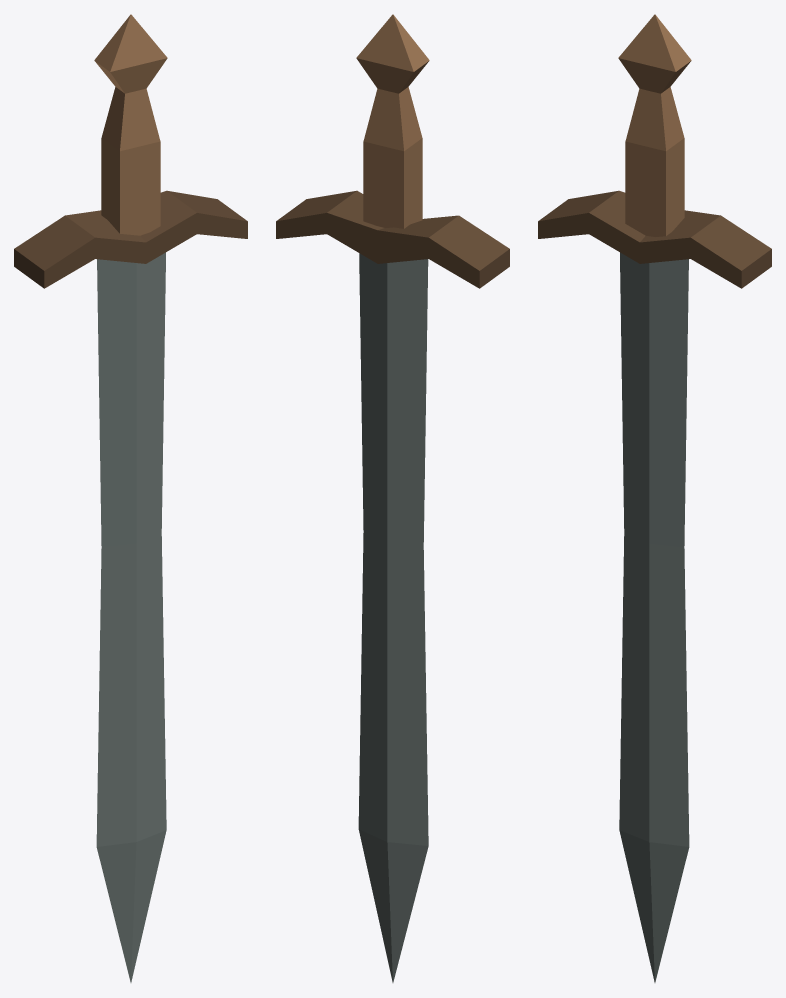
The model's file is Sword_3_Brown.fbx.
3 renders of one model, left to right at view 1: azimuth 30°, elevation 25°; view 2: azimuth 150°, elevation 25°; view 3: azimuth 330°, elevation 25°, orthographic.
Parts seen in each view (by area): view 1: Sword_3_Brown_Part_1, Sword_3_Brown_Part_3, Sword_3_Brown_Part_2; view 2: Sword_3_Brown_Part_1, Sword_3_Brown_Part_3, Sword_3_Brown_Part_2; view 3: Sword_3_Brown_Part_1, Sword_3_Brown_Part_3, Sword_3_Brown_Part_2.
Boxes of the visible parts, x1,y1,x2,y2 form: Sword_3_Brown_Part_1: (96,252,166,982); Sword_3_Brown_Part_3: (94,14,167,235); Sword_3_Brown_Part_2: (14,190,247,288); Sword_3_Brown_Part_1: (358,253,428,982); Sword_3_Brown_Part_3: (356,14,429,228); Sword_3_Brown_Part_2: (276,190,509,288); Sword_3_Brown_Part_1: (619,252,689,982); Sword_3_Brown_Part_3: (618,14,691,236); Sword_3_Brown_Part_2: (538,190,771,288).
Bounding box in the file's own units: 30.68 × 140 × 7.9.
